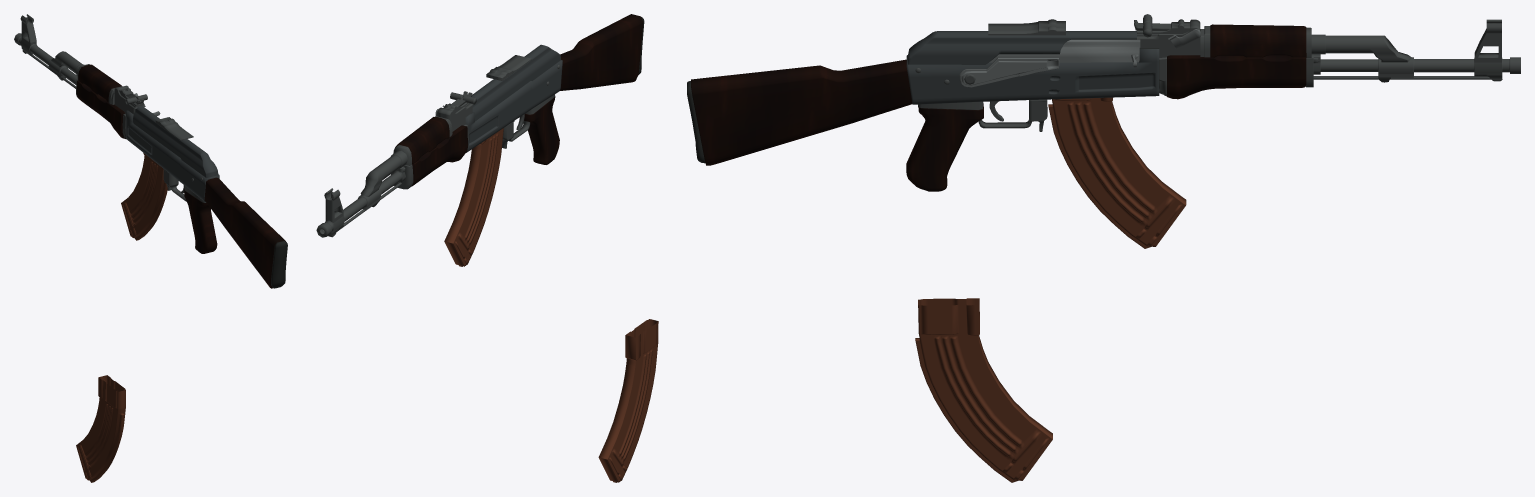
File: ak47_reloadable_world.glb
The picture shows the model from 3 angles, left to right: view 1: azimuth 30°, elevation 25°; view 2: azimuth 150°, elevation 25°; view 3: azimuth 270°, elevation 25°; orthographic projection. The views are drawn at different scales.
Parts seen in each view (by area): view 1: ReceiverGeometry, StockWoodGeometry, SpareMagazineGeometry, FurnitureGeometry, WeaponBodyGeometry, MagazineGeometry, StockButtpadGeometry, OpticRailAdapterGeometry, FrontIronGeometry; view 2: SpareMagazineGeometry, ReceiverGeometry, StockWoodGeometry, FurnitureGeometry, WeaponBodyGeometry, MagazineGeometry, OpticRailAdapterGeometry, FrontIronGeometry; view 3: StockWoodGeometry, ReceiverGeometry, SpareMagazineGeometry, FurnitureGeometry, MagazineGeometry, WeaponBodyGeometry, ChargingHandleGeometry, BoltHardwareGeometry, OpticRailAdapterGeometry.
Part boxes in pixels (<box>): ReceiverGeometry: <box>126,106,219,202</box>; StockWoodGeometry: <box>204,177,286,288</box>; SpareMagazineGeometry: <box>76,375,125,482</box>; FurnitureGeometry: <box>76,64,217,253</box>; WeaponBodyGeometry: <box>14,33,206,202</box>; MagazineGeometry: <box>121,153,167,240</box>; StockButtpadGeometry: <box>271,241,287,288</box>; OpticRailAdapterGeometry: <box>155,117,193,140</box>; FrontIronGeometry: <box>20,14,36,42</box>; SpareMagazineGeometry: <box>598,319,658,482</box>; ReceiverGeometry: <box>465,44,562,152</box>; StockWoodGeometry: <box>560,14,643,90</box>; FurnitureGeometry: <box>394,96,559,186</box>; WeaponBodyGeometry: <box>316,65,559,237</box>; MagazineGeometry: <box>444,128,503,266</box>; OpticRailAdapterGeometry: <box>486,55,531,80</box>; FrontIronGeometry: <box>324,188,343,219</box>; StockWoodGeometry: <box>691,59,912,165</box>; ReceiverGeometry: <box>906,31,1159,104</box>; SpareMagazineGeometry: <box>915,298,1052,482</box>; FurnitureGeometry: <box>906,24,1306,191</box>; MagazineGeometry: <box>1048,97,1186,248</box>; WeaponBodyGeometry: <box>915,14,1520,131</box>; ChargingHandleGeometry: <box>989,39,1140,67</box>; BoltHardwareGeometry: <box>959,29,1200,87</box>; OpticRailAdapterGeometry: <box>988,19,1065,35</box>.
Size of the model in its own units: 0.3387 by 0.9778 by 1.4.
Materials: 6 (1 with a texture image).
